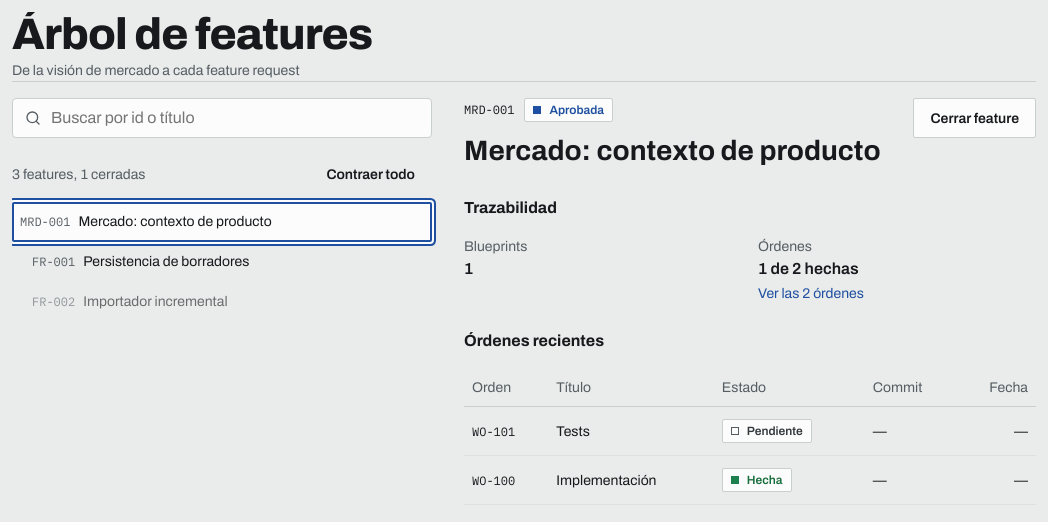
ProjectGraph (árbol de features) › shows how many features are on the tree and how many are closed, and "Contraer todo" collapses every row (WO-457)
Expected: the element named "árbol de features" is shown, left=12, top=202, right=432, bottom=322
Expected: the list item "FR-001 Persistencia de borradores" is shown, left=32, top=254, right=249, bottom=269
Click the button "Contraer todo": (371, 174) left=309, top=154, right=432, bottom=194
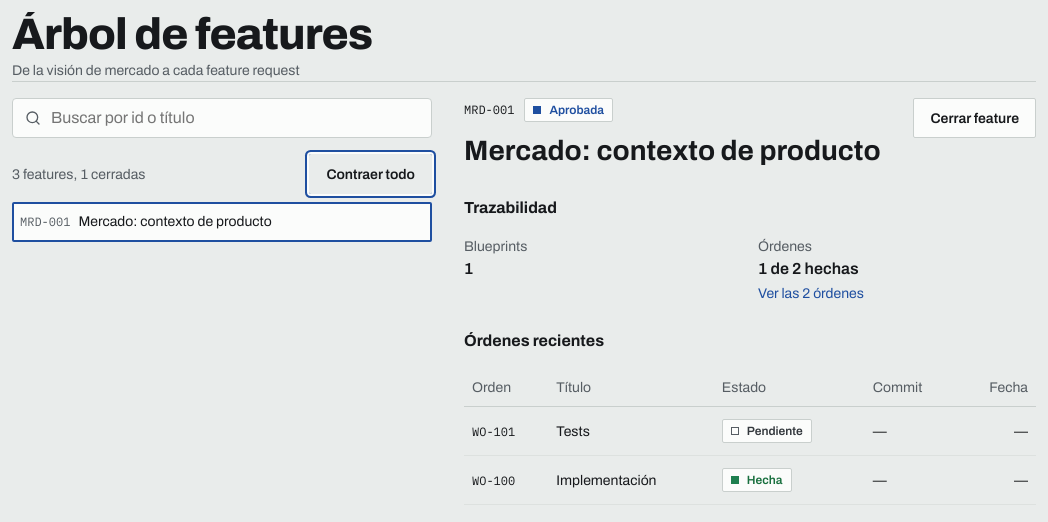
Result: the text "FR-001" is gone
